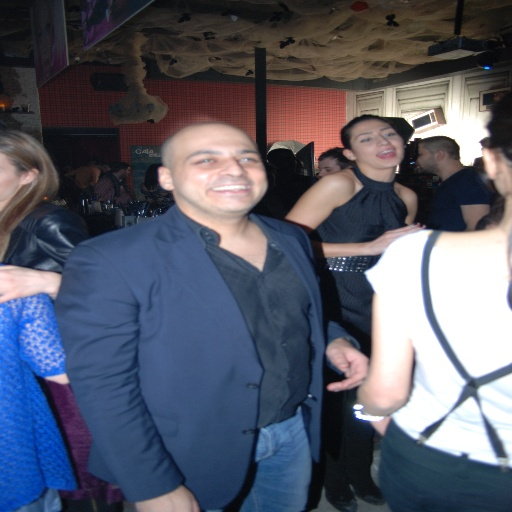hand: (326, 341, 370, 392), (0, 264, 53, 304), (132, 485, 200, 511), (370, 223, 425, 253)
